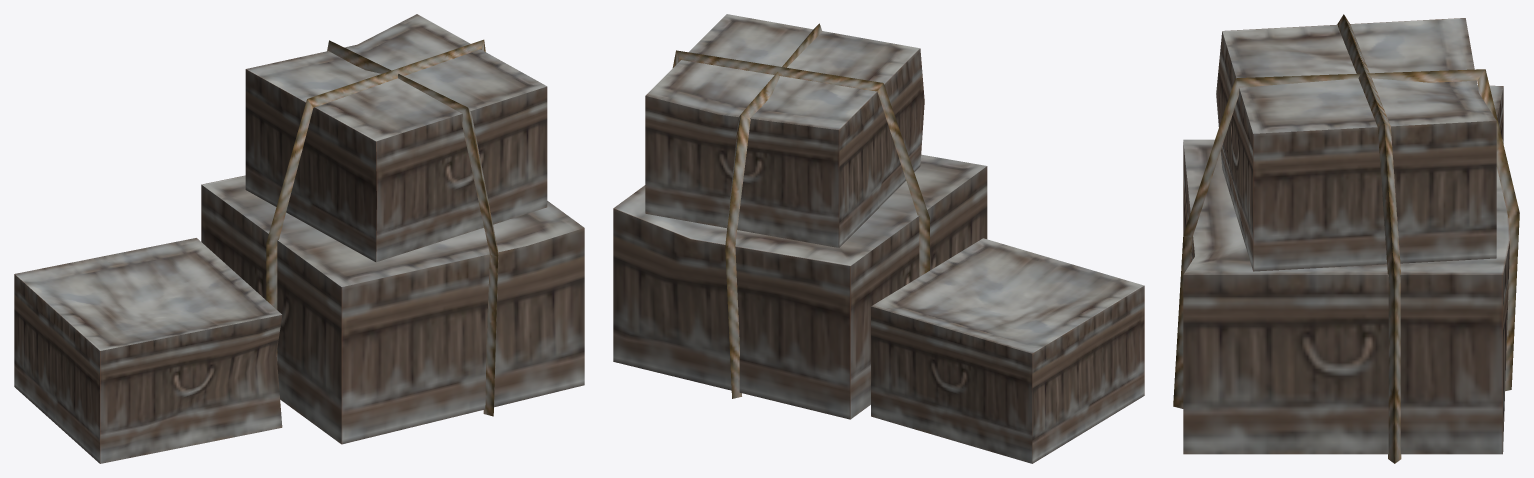
The model's file is snow_a_r11a.fbx.
3 views of the same model, side by side, from view 1: azimuth 30°, elevation 25°; view 2: azimuth 150°, elevation 25°; view 3: azimuth 270°, elevation 25° (orthographic). The views are drawn at different scales.
Parts seen in each view (by area): view 1: snow_a_r11a; view 2: snow_a_r11a; view 3: snow_a_r11a.
Part boxes in pixels (bbox=[...]): snow_a_r11a: bbox=[14, 14, 584, 463]; snow_a_r11a: bbox=[613, 14, 1144, 463]; snow_a_r11a: bbox=[1173, 14, 1519, 463].
Size of the model in its own units: 185 by 113 by 108.
